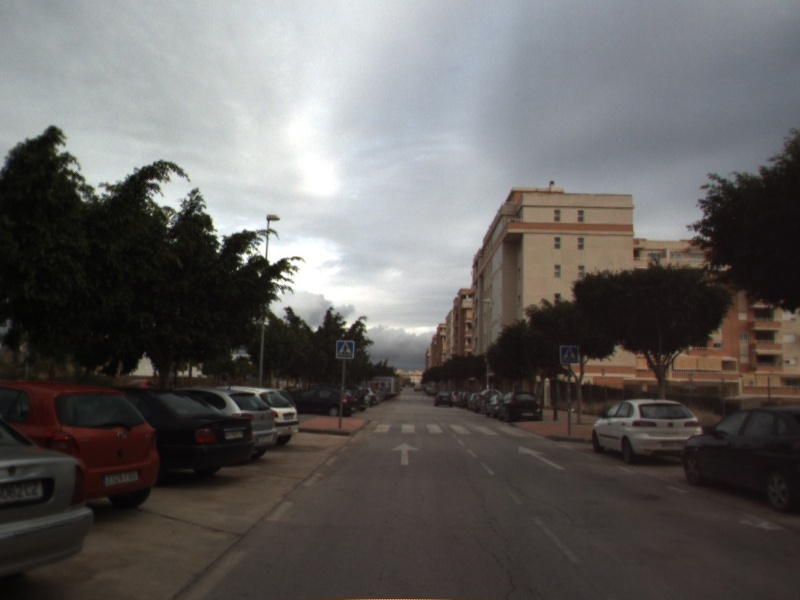STRAIGHT: (516, 444, 566, 471), (390, 440, 422, 466)
